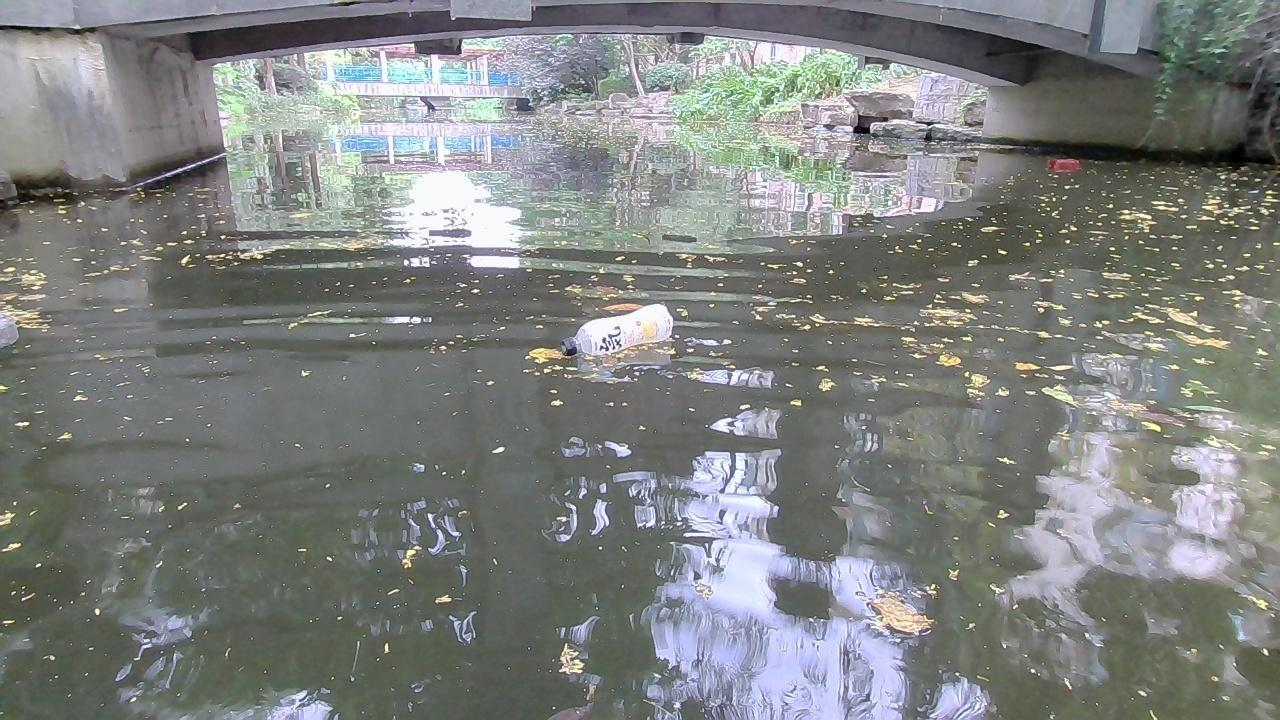bottle: (561, 300, 675, 362), (1047, 156, 1080, 168)
